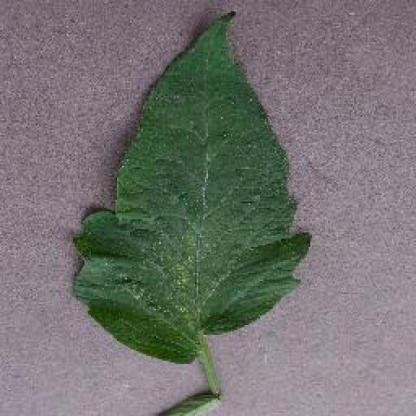Tomato_Spider_Mites: (74, 11, 311, 362)
